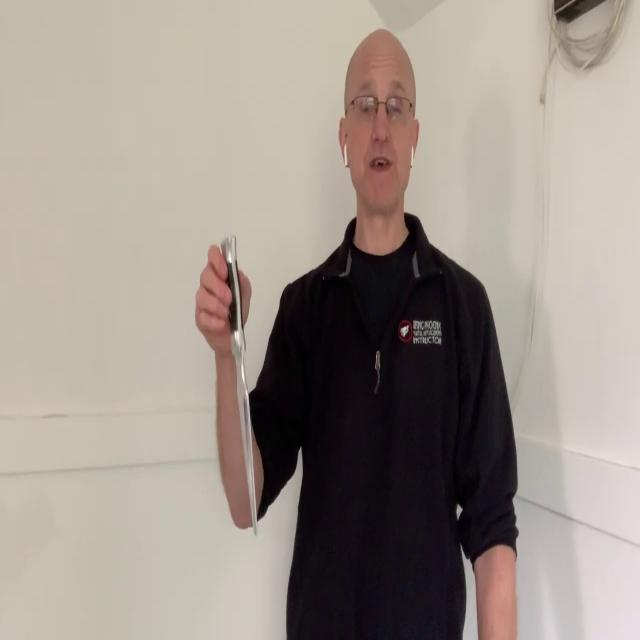Knife_Handle: (195, 232, 260, 538)
